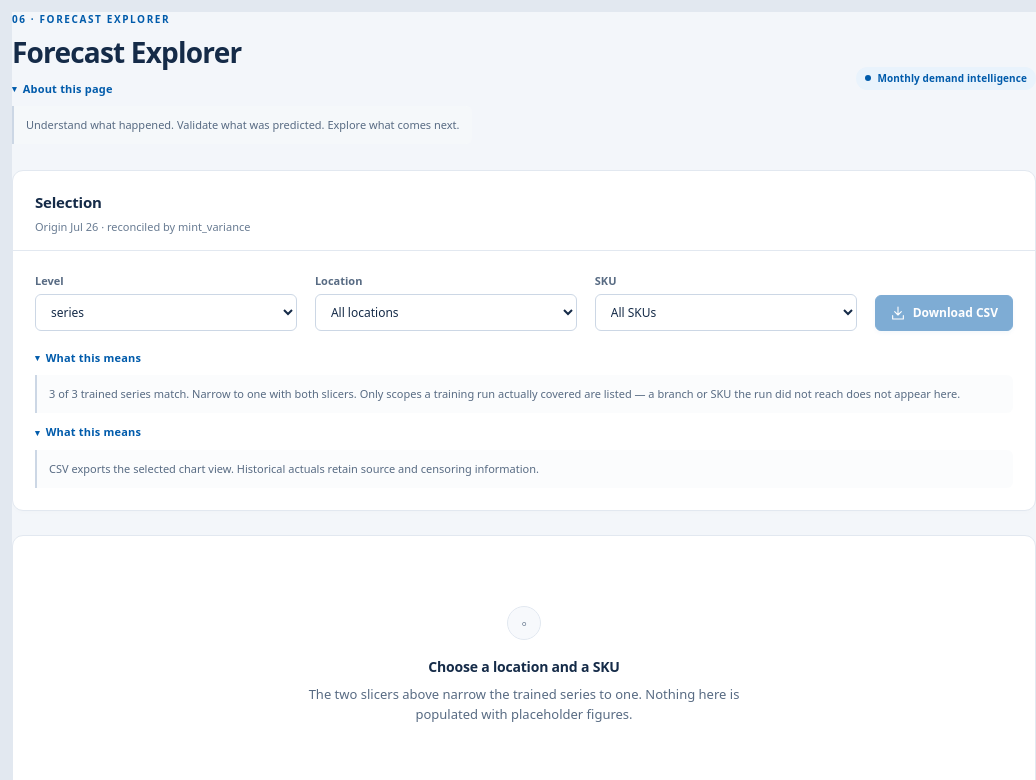
ForecastExplorerPage slicers › asks for a narrower selection while more than one series matches
This screenshot has width=1036, height=780.
Select "SKU-A" in the dropdown labelled "SKU" at (726, 312), box 595,294 -> 857,331
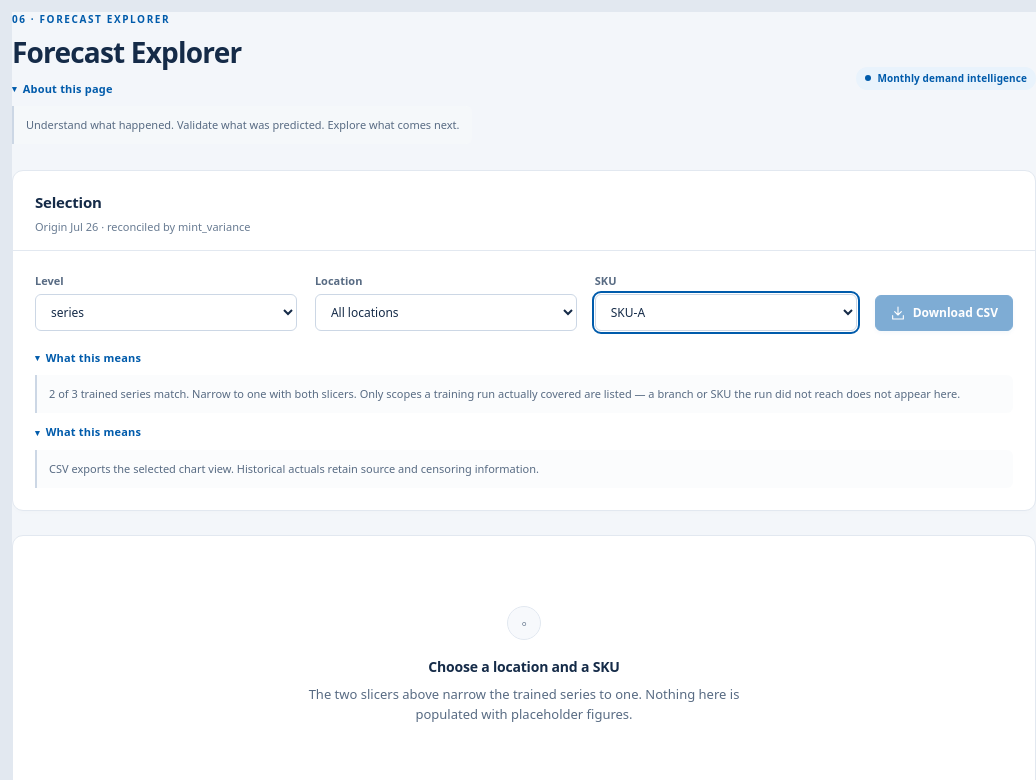
expect the heading "Choose a location and a SKU" is shown: met, box 428,657 -> 620,676
expect the text "2 of 3 trained series match" is shown: met, box 35,375 -> 1013,413
